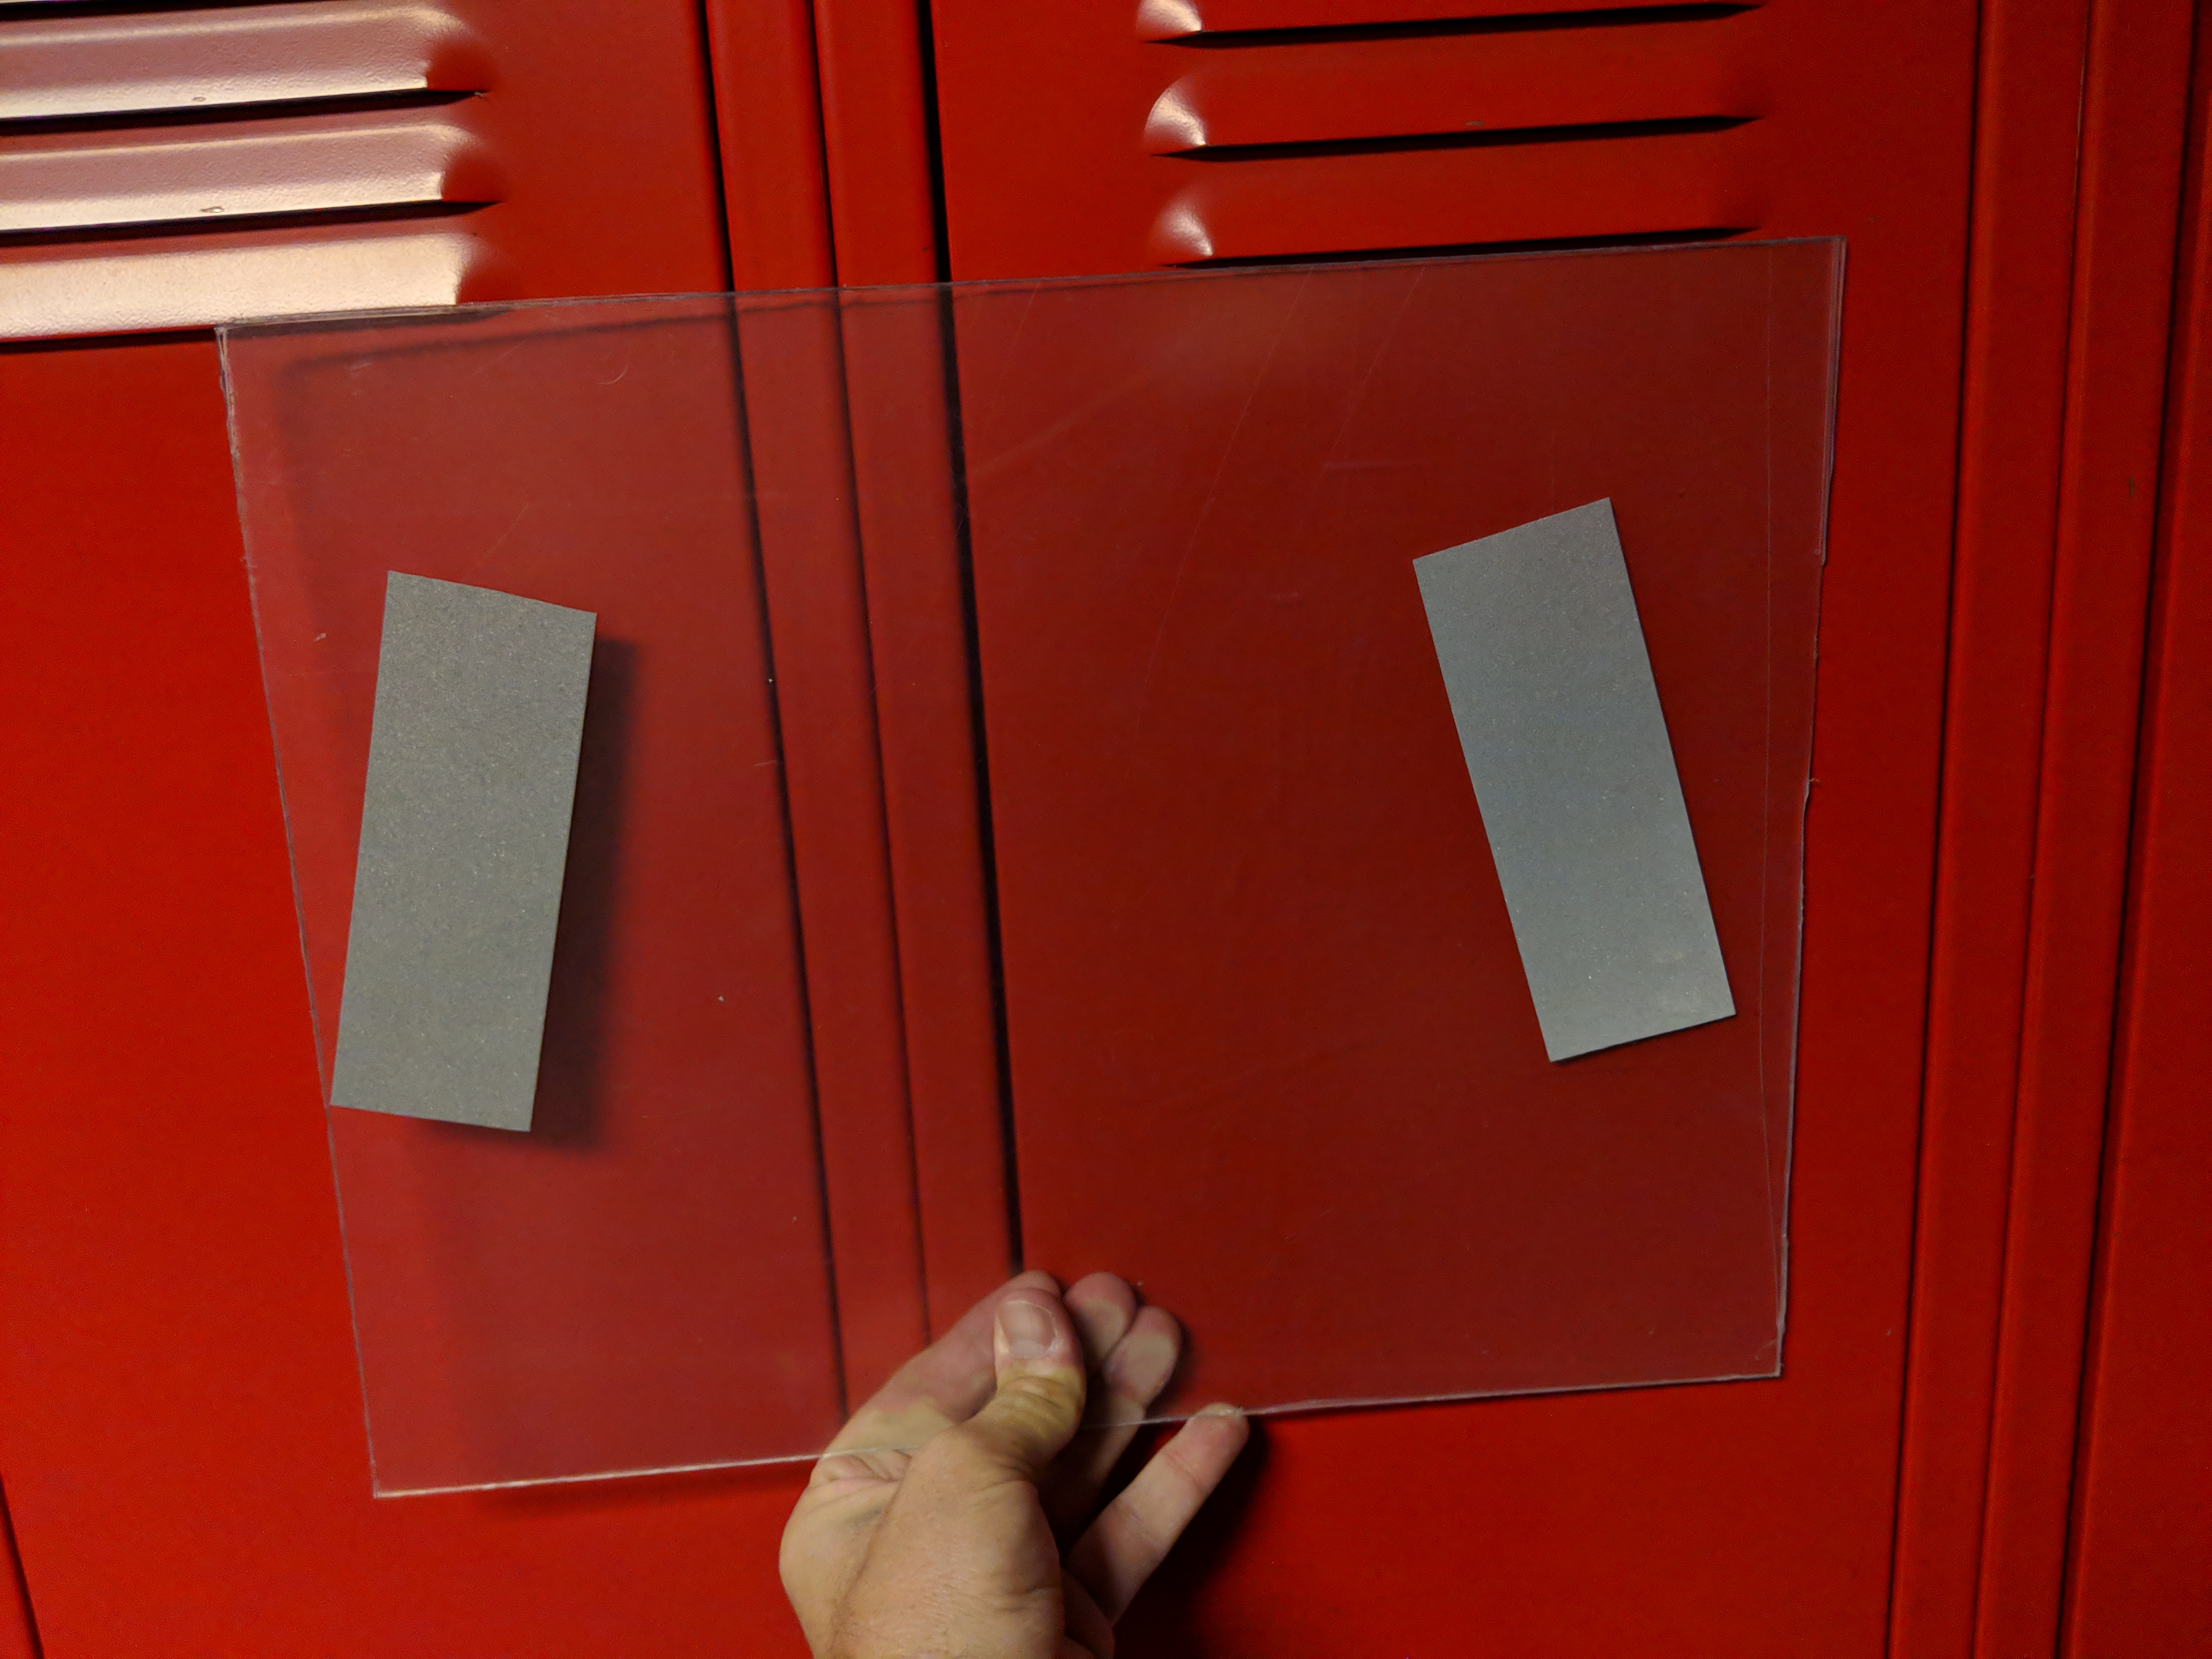vision_target: (314, 491, 1750, 1138)
